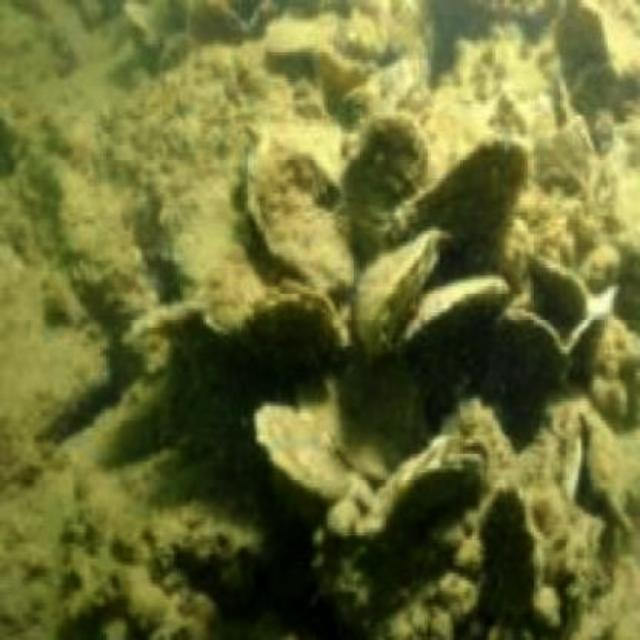Oyster-Closed: (395, 144, 524, 275), (249, 143, 356, 293), (212, 283, 350, 383), (368, 431, 489, 537), (340, 117, 425, 246), (396, 278, 510, 374), (358, 234, 441, 358), (252, 404, 351, 497), (480, 486, 539, 614)
